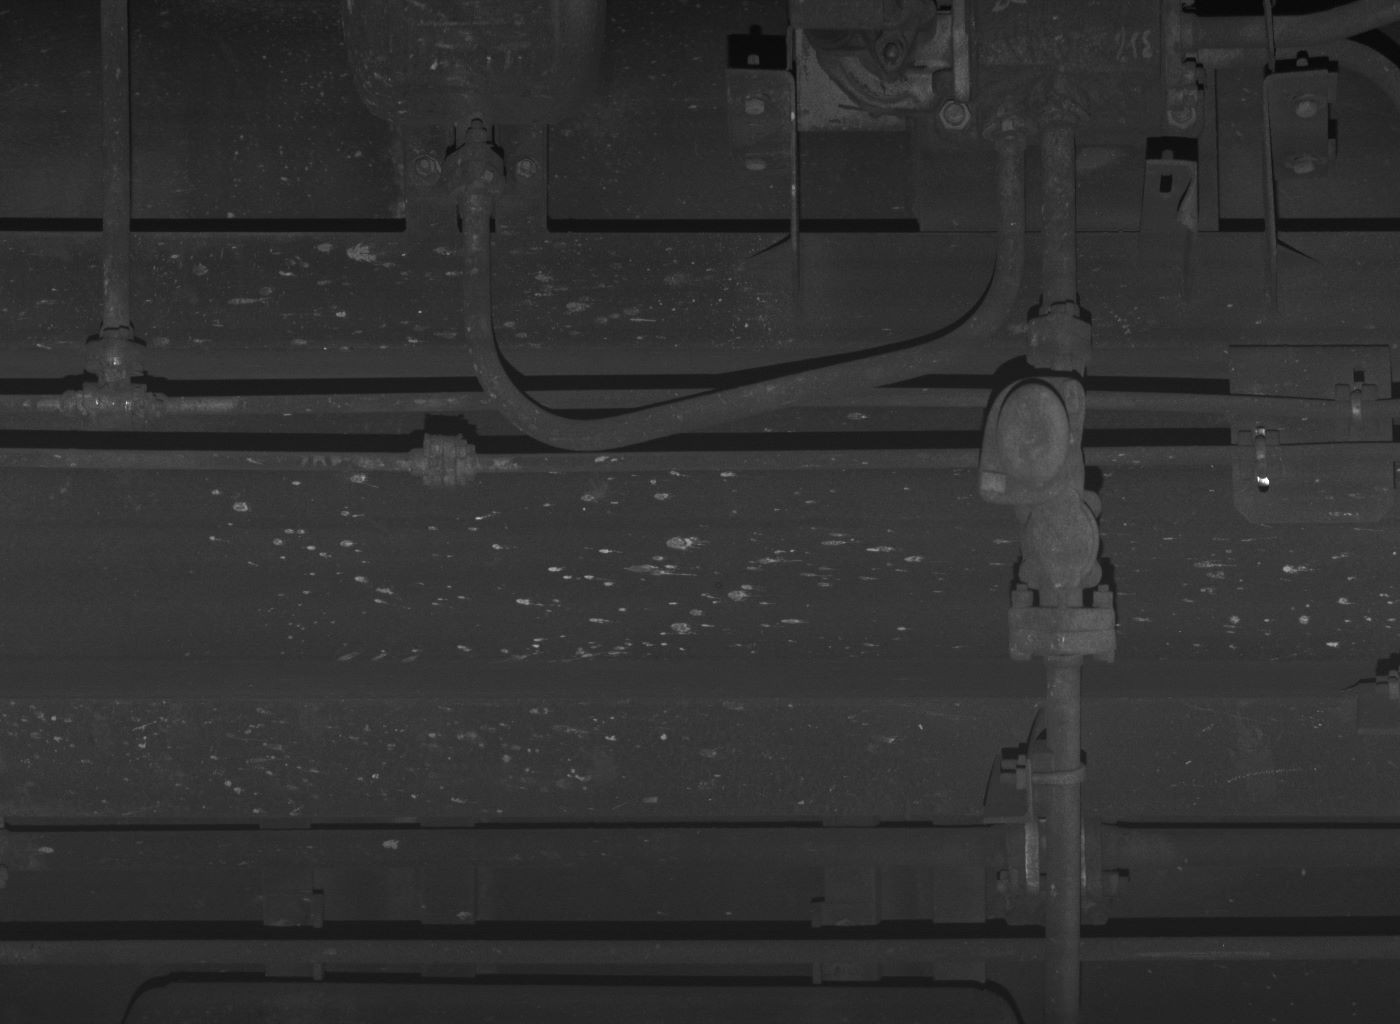normal: (1017, 488, 1103, 591)
